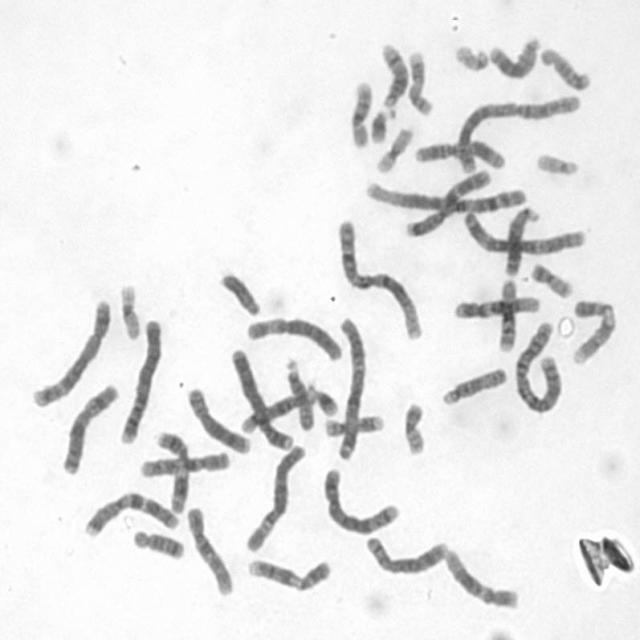A1: (330, 212, 426, 341), (359, 175, 530, 216)
A2: (449, 87, 584, 173), (509, 313, 565, 414)
A3: (457, 204, 588, 257), (331, 310, 368, 464)
B4: (225, 341, 295, 452), (113, 310, 165, 446)
B5: (27, 290, 113, 409), (317, 461, 403, 537)
C10: (180, 499, 235, 597), (134, 444, 232, 479)
C11: (149, 422, 192, 515), (408, 132, 508, 170)
C12: (438, 541, 521, 611), (449, 289, 543, 320)
C6: (240, 437, 308, 554), (240, 309, 345, 362)
C7: (400, 162, 494, 238), (78, 485, 181, 539)
C8: (181, 380, 253, 456), (360, 528, 450, 577)
C9: (566, 291, 620, 366), (242, 550, 333, 594)
D13: (498, 200, 542, 278), (483, 29, 543, 80)
D14: (238, 388, 304, 436), (375, 36, 410, 108)
D15: (436, 360, 510, 408), (279, 350, 316, 432)
E16: (492, 271, 520, 353), (344, 74, 374, 150)
E17: (402, 44, 436, 117), (319, 407, 386, 438)
E18: (535, 39, 593, 92), (127, 522, 187, 561)
F19: (370, 120, 416, 175), (113, 275, 145, 341)
F20: (525, 255, 576, 299), (397, 394, 429, 456)
G21: (364, 101, 398, 144), (304, 378, 341, 417)
G22: (530, 145, 582, 177), (449, 36, 492, 72)
X: (54, 375, 120, 476)
Y: (214, 264, 262, 317)
